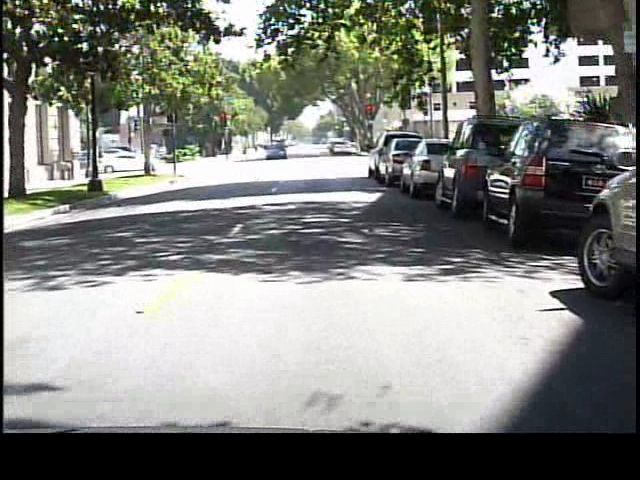person: (239, 142, 252, 164)
